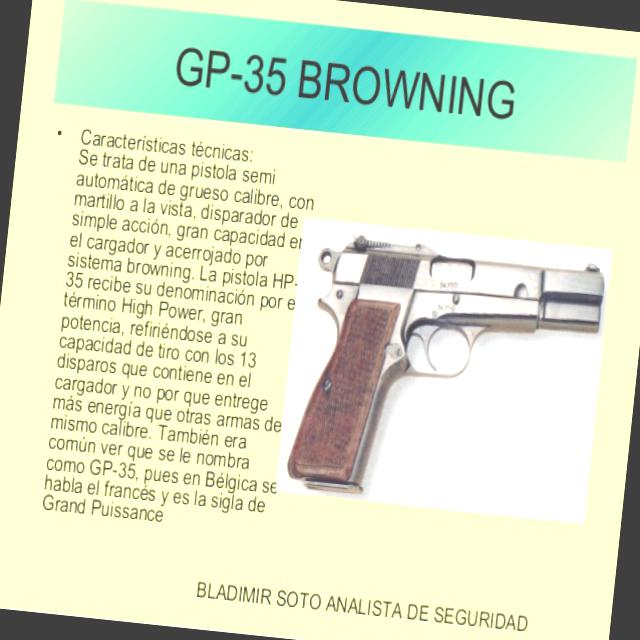handgun: (288, 224, 606, 511)
